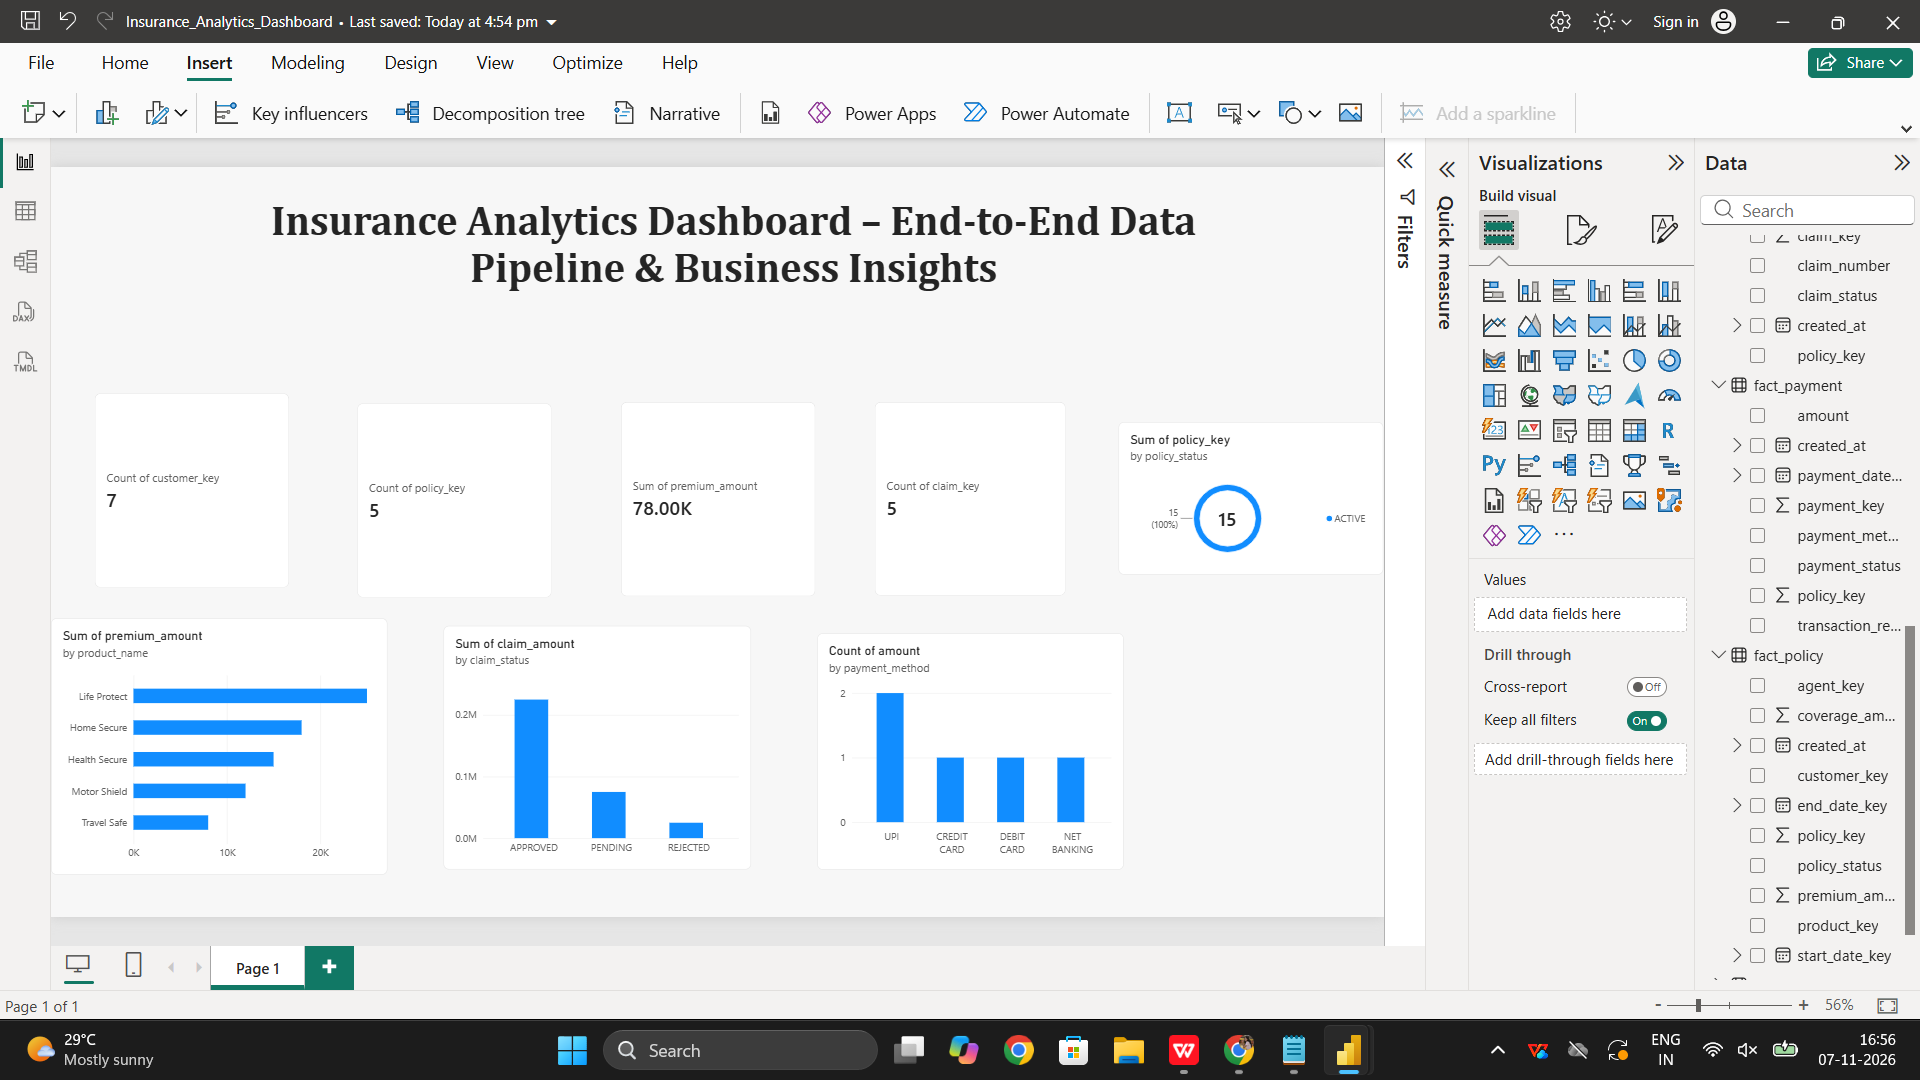

The dashboard page shown, as its layout file describes it:
{"tool":"powerbi","page":{"name":"Page 1","canvas":[1920,1080],"ordinal":0},"visuals":[{"type":"cardVisual","fields":{"Data":["CountNonNull(dim_customer.customer_key)"]},"box":[63,326,280,280],"z":0},{"type":"cardVisual","fields":{"Data":["CountNonNull(fact_policy.policy_key)"]},"box":[441.3,340.4,280,280],"z":1000},{"type":"cardVisual","fields":{"Data":["Sum(fact_policy.premium_amount)"]},"box":[821.3,338.6,280,280],"z":2000},{"type":"cardVisual","fields":{"Data":["Count(fact_claim.claim_key)"]},"box":[1186.9,338.6,275.6,279.2],"z":3000},{"type":"clusteredColumnChart","fields":{"Category":["fact_claim.claim_status"],"Y":["Sum(fact_claim.claim_amount)"]},"box":[565.6,661,443.1,351.2],"z":4000},{"type":"clusteredColumnChart","fields":{"Category":["fact_payment.payment_method"],"Y":["CountNonNull(fact_payment.amount)"]},"box":[1104.1,671.8,441.3,340.4],"z":5000},{"type":"clusteredBarChart","fields":{"Category":["dim_product.product_name"],"Y":["Sum(fact_policy.premium_amount)"]},"box":[0,650.2,484.5,369.2],"z":6000},{"type":"donutChart","fields":{"Category":["fact_policy.policy_status"],"Y":["Sum(fact_policy.policy_key)"]},"box":[1538.2,367.4,381.8,219.7],"z":6001},{"type":"textbox","box":[302.6,41.4,1361.7,172.9],"z":6002}]}

Visuals, with their boxes on the page's 1920x1080 design canvas (x1, y1, x2, y2). These are canvas units, not pixel positions in the 1920x1080 screenshot, which may show the page scaled, cropped or inside an application window:
cardVisual - CountNonNull(dim_customer.customer_key): [left=63, top=326, right=343, bottom=606]
cardVisual - CountNonNull(fact_policy.policy_key): [left=441, top=340, right=721, bottom=620]
cardVisual - Sum(fact_policy.premium_amount): [left=821, top=339, right=1101, bottom=619]
cardVisual - Count(fact_claim.claim_key): [left=1187, top=339, right=1462, bottom=618]
clusteredColumnChart - fact_claim.claim_status x Sum(fact_claim.claim_amount): [left=566, top=661, right=1009, bottom=1012]
clusteredColumnChart - fact_payment.payment_method x CountNonNull(fact_payment.amount): [left=1104, top=672, right=1545, bottom=1012]
clusteredBarChart - dim_product.product_name x Sum(fact_policy.premium_amount): [left=0, top=650, right=484, bottom=1019]
donutChart - fact_policy.policy_status x Sum(fact_policy.policy_key): [left=1538, top=367, right=1920, bottom=587]
textbox: [left=303, top=41, right=1664, bottom=214]
